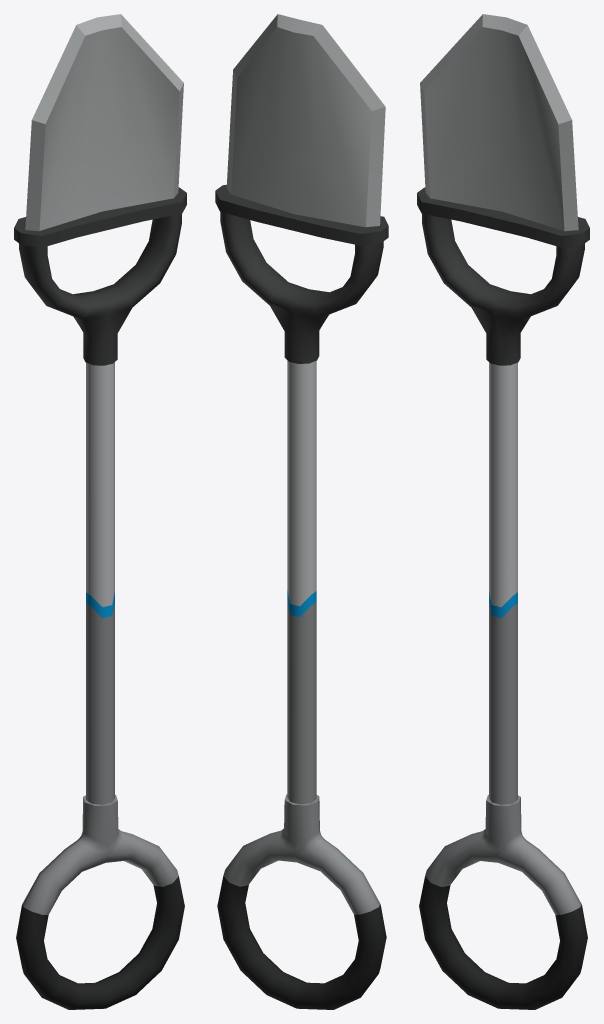
File: Shovel_001.fbx
The picture shows the model from 3 angles, left to right: view 1: azimuth 30°, elevation 25°; view 2: azimuth 150°, elevation 25°; view 3: azimuth 330°, elevation 25°; orthographic projection.
Parts seen in each view (by area): view 1: Shovel_001; view 2: Shovel_001; view 3: Shovel_001.
Part boxes in pixels (bbox=[...]): Shovel_001: bbox=[14, 14, 186, 1009]; Shovel_001: bbox=[215, 14, 388, 1009]; Shovel_001: bbox=[417, 14, 589, 1009].
Bounding box in the file's own units: 26.56 × 7.03 × 151.
